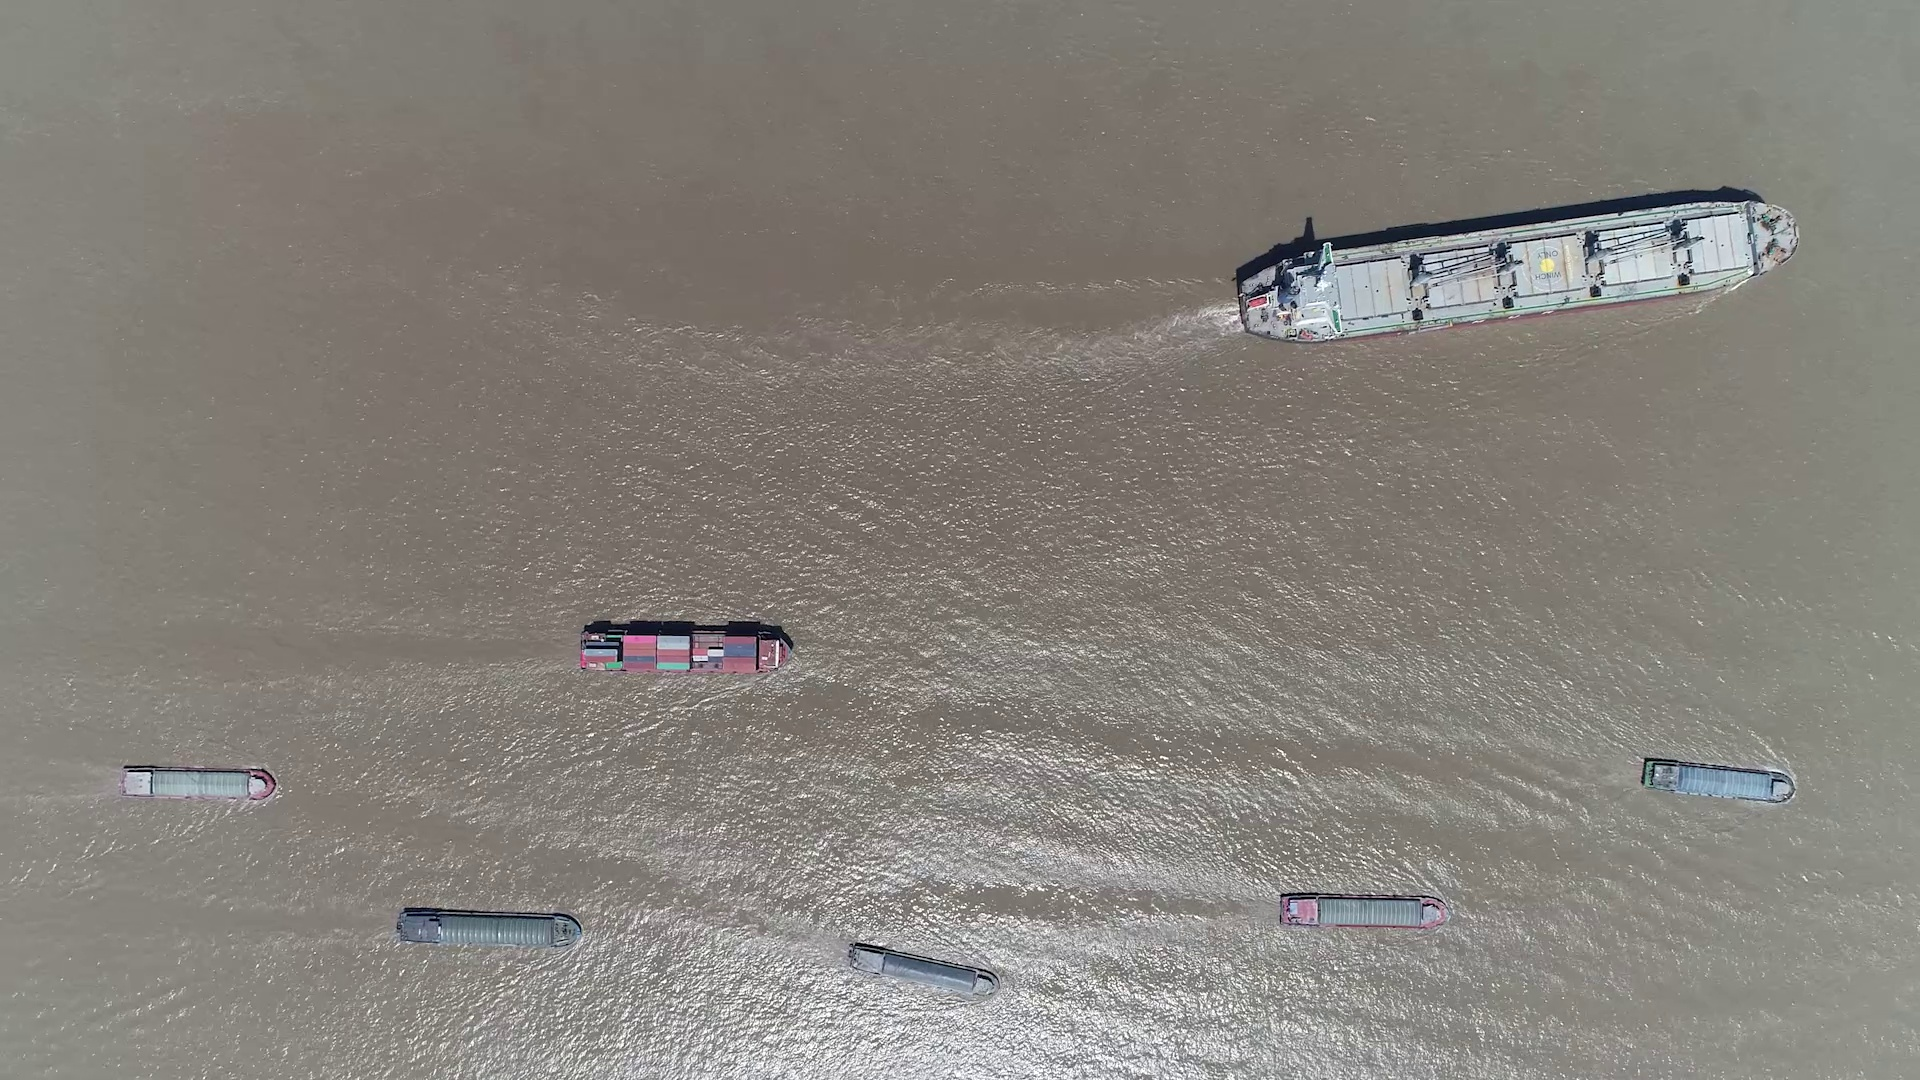ship: (1229, 200, 1799, 342), (578, 625, 793, 675), (847, 942, 998, 996), (396, 907, 580, 948), (1639, 757, 1793, 803), (1278, 893, 1447, 930), (117, 764, 276, 802)
